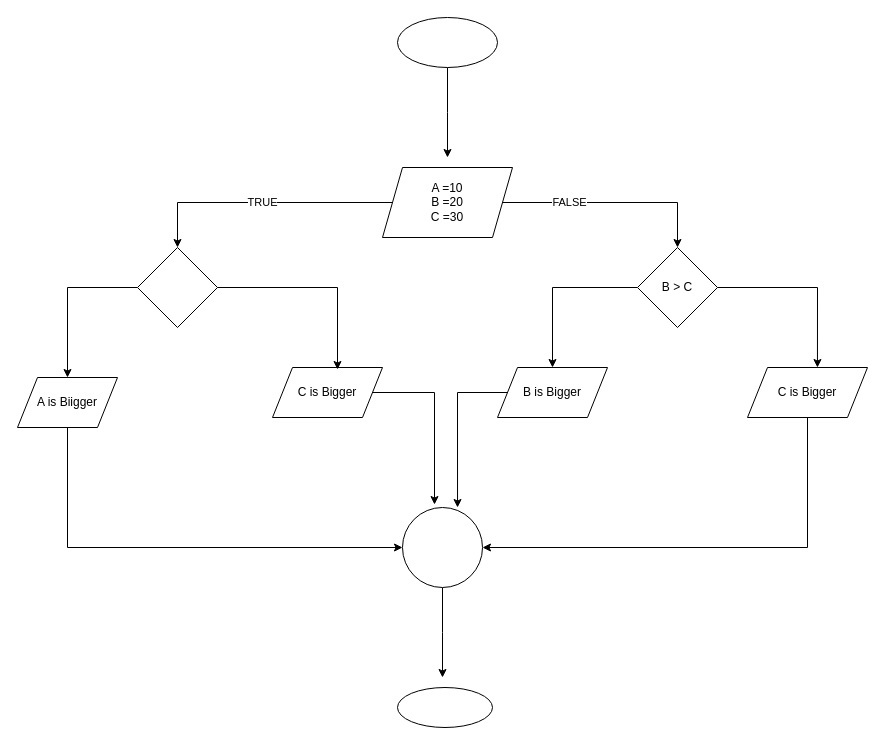
Image size: 885x745. Some labels were removed from this diagram. Here are the shapes that lost their labels. From the top down, the box of each, then its label:
(396, 16, 498, 68): START
(136, 246, 218, 328): A > C
(396, 686, 492, 728): END
